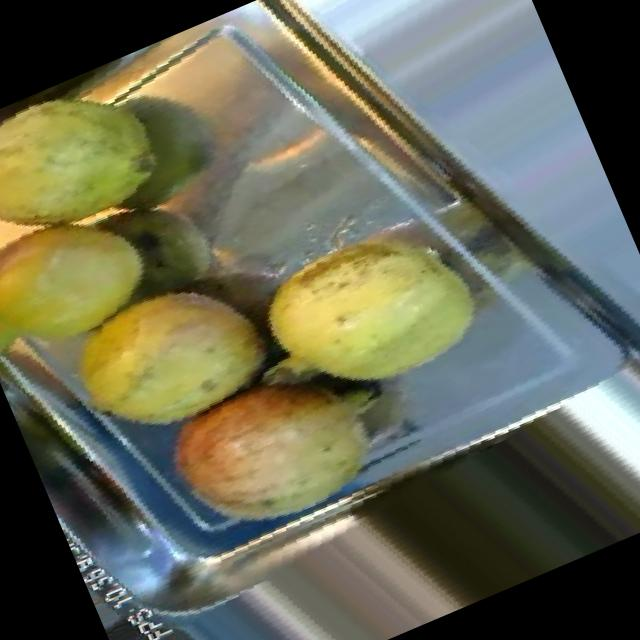fruit: (219, 174, 523, 445), (36, 239, 304, 474), (0, 50, 200, 295), (0, 157, 193, 389)
